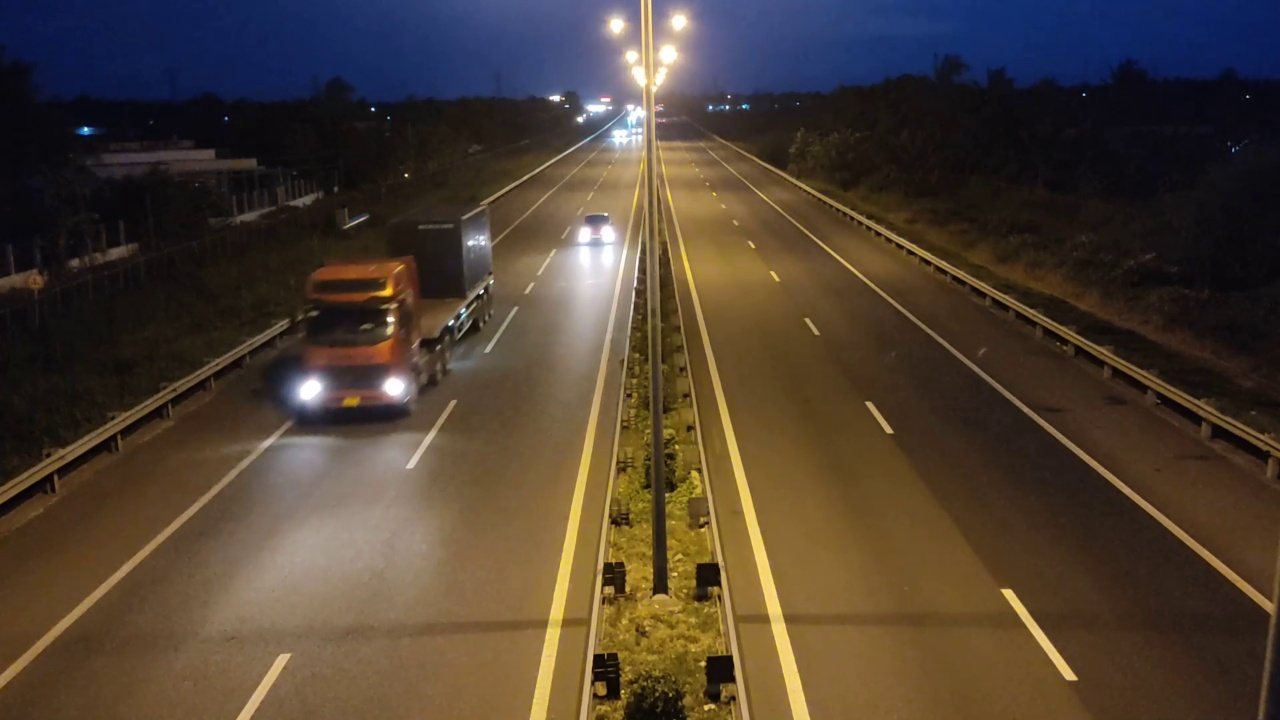truck: (277, 205, 496, 422)
